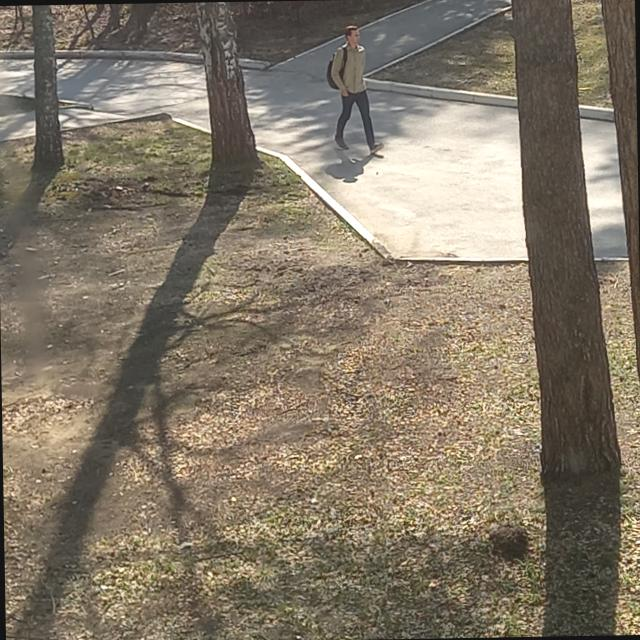person: (324, 24, 382, 154)
